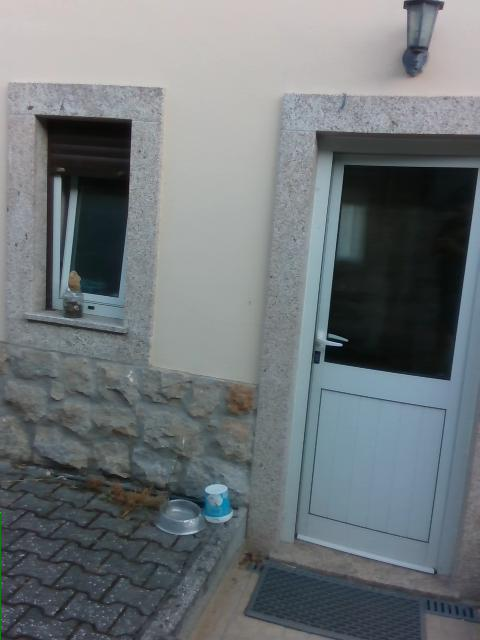door: (279, 131, 478, 578)
